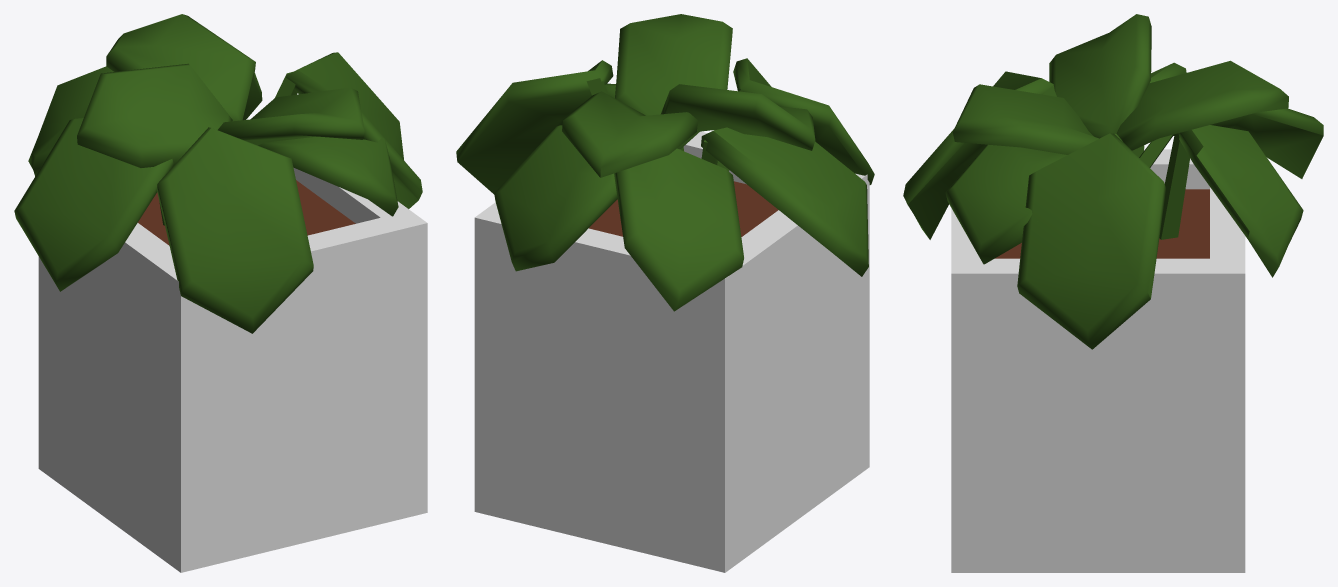
Rendered from plant1.fbx.
3 renders of one model, left to right at view 1: azimuth 30°, elevation 25°; view 2: azimuth 150°, elevation 25°; view 3: azimuth 270°, elevation 25°, orthographic. The views are drawn at different scales.
Visible parts, largest first — view 1: plant1; view 2: plant1; view 3: plant1.
Part boxes in pixels (left/top/right/bottom): plant1: left=14, top=14, right=427, bottom=572; plant1: left=456, top=14, right=874, bottom=572; plant1: left=903, top=14, right=1323, bottom=572.
Size of the model in its own units: 2.35 by 2.53 by 2.18.
